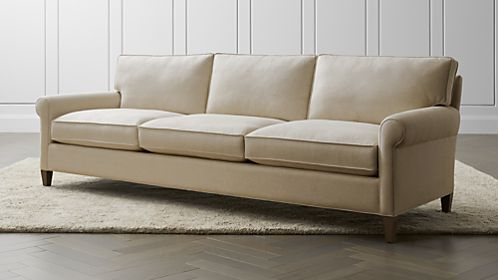chairs: (37, 50, 463, 245)
